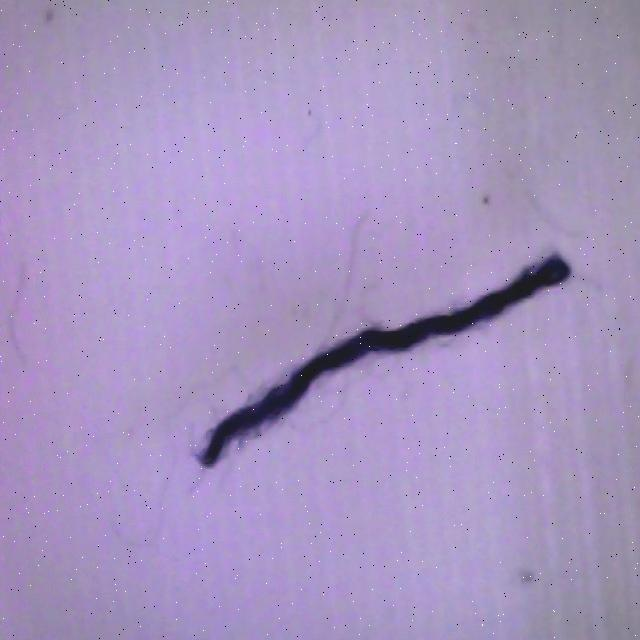Fibre: (188, 246, 572, 482), (2, 258, 38, 380)
